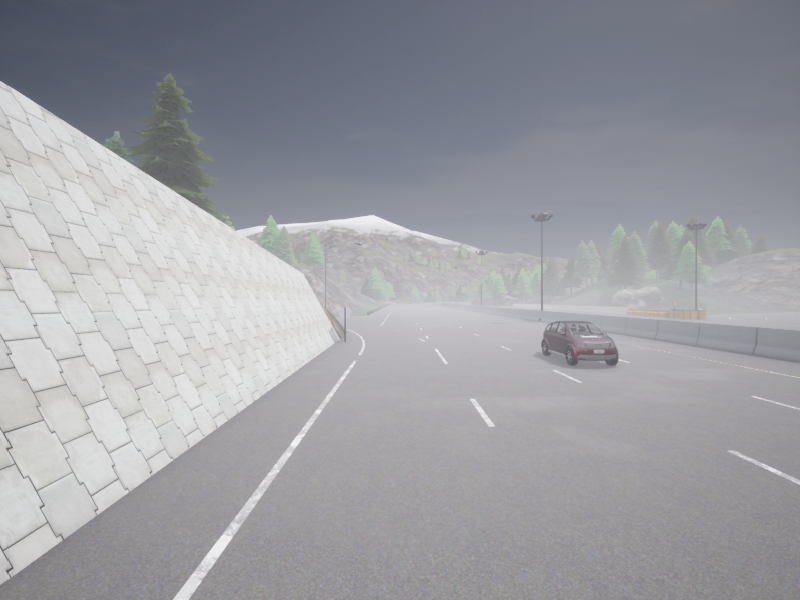vehicle: (541, 321, 617, 364)
